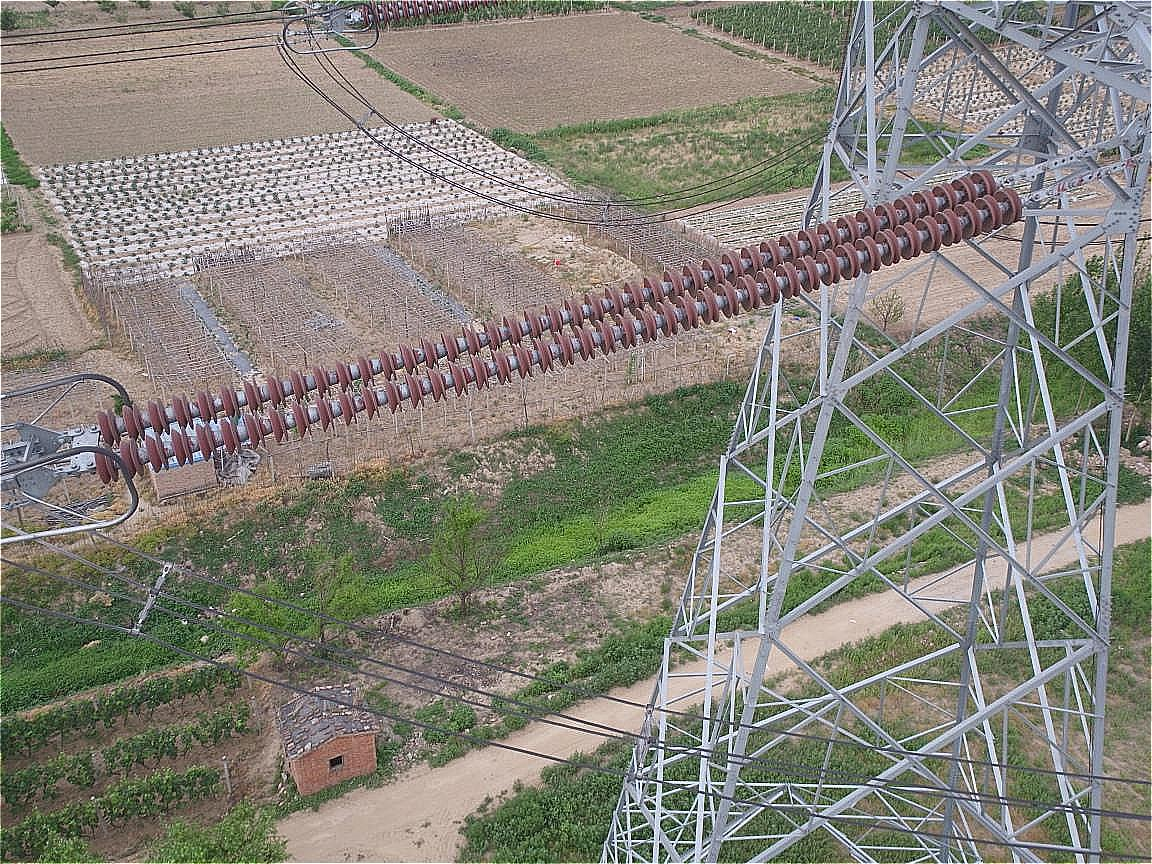insultor2: (84, 161, 1035, 509)
